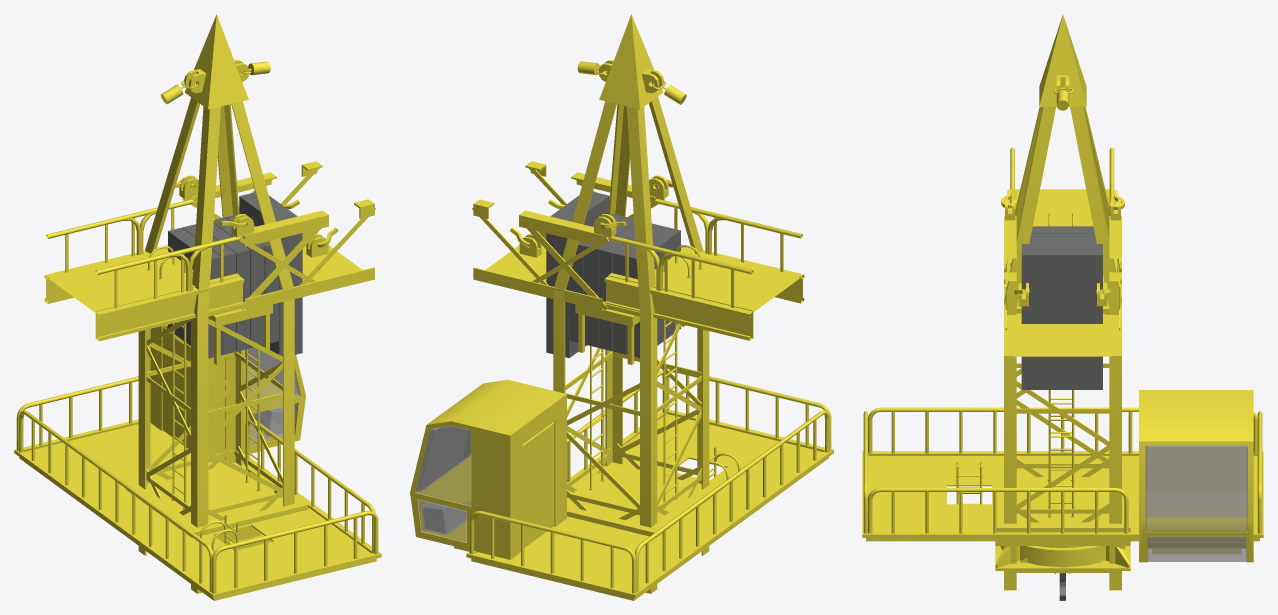
File: tower_crane_classic.glb
3 views of the same model, side by side, from view 1: azimuth 30°, elevation 25°; view 2: azimuth 150°, elevation 25°; view 3: azimuth 270°, elevation 25° (orthographic).
Visible parts, largest first — view 1: slewing, head, cjib_root, counterweight, cjib_section, jib_root, jib_b, jib_a, cjib_end, trolley, mast_a, jib_lug (+2 smaller); view 2: slewing, head, cjib_root, counterweight, cjib_section, jib_root, jib_a, trolley, jib_b, cjib_end, jib_lug, jib_tip (+3 smaller); view 3: slewing, head, counterweight, jib_root, cjib_root, jib_a, jib_b, base, jib_tip, mast_a, jib_lug.
Part boxes in pixels (bbox=[...]): slewing: bbox=[14, 326, 381, 600]; head: bbox=[138, 14, 294, 523]; cjib_root: bbox=[44, 216, 198, 341]; counterweight: bbox=[168, 192, 302, 358]; cjib_section: bbox=[113, 200, 244, 323]; jib_root: bbox=[281, 161, 375, 298]; jib_b: bbox=[182, 178, 328, 310]; jib_a: bbox=[191, 172, 328, 310]; cjib_end: bbox=[140, 199, 243, 319]; trolley: bbox=[163, 304, 272, 364]; mast_a: bbox=[138, 444, 294, 549]; jib_lug: bbox=[175, 175, 253, 237]; slewing: bbox=[410, 369, 833, 600]; head: bbox=[553, 14, 709, 527]; cjib_root: bbox=[649, 215, 804, 340]; counterweight: bbox=[546, 191, 680, 358]; cjib_section: bbox=[604, 198, 737, 324]; jib_root: bbox=[472, 161, 567, 298]; jib_a: bbox=[519, 172, 659, 310]; trolley: bbox=[575, 304, 685, 364]; jib_b: bbox=[519, 172, 665, 310]; cjib_end: bbox=[605, 199, 712, 316]; jib_lug: bbox=[594, 175, 673, 237]; jib_tip: bbox=[514, 196, 662, 305]; slewing: bbox=[862, 390, 1263, 570]; head: bbox=[1004, 15, 1121, 523]; counterweight: bbox=[1021, 226, 1102, 389]; jib_root: bbox=[1004, 272, 1121, 356]; cjib_root: bbox=[1007, 147, 1117, 266]; jib_a: bbox=[1004, 216, 1121, 332]; jib_b: bbox=[1004, 216, 1121, 332]; base: bbox=[1004, 547, 1121, 590]; jib_tip: bbox=[1004, 217, 1121, 334]; mast_a: bbox=[956, 458, 1121, 573]; jib_lug: bbox=[1001, 189, 1124, 220].
Size of the model in its own units: 6.65 by 13.34 by 8.28.
